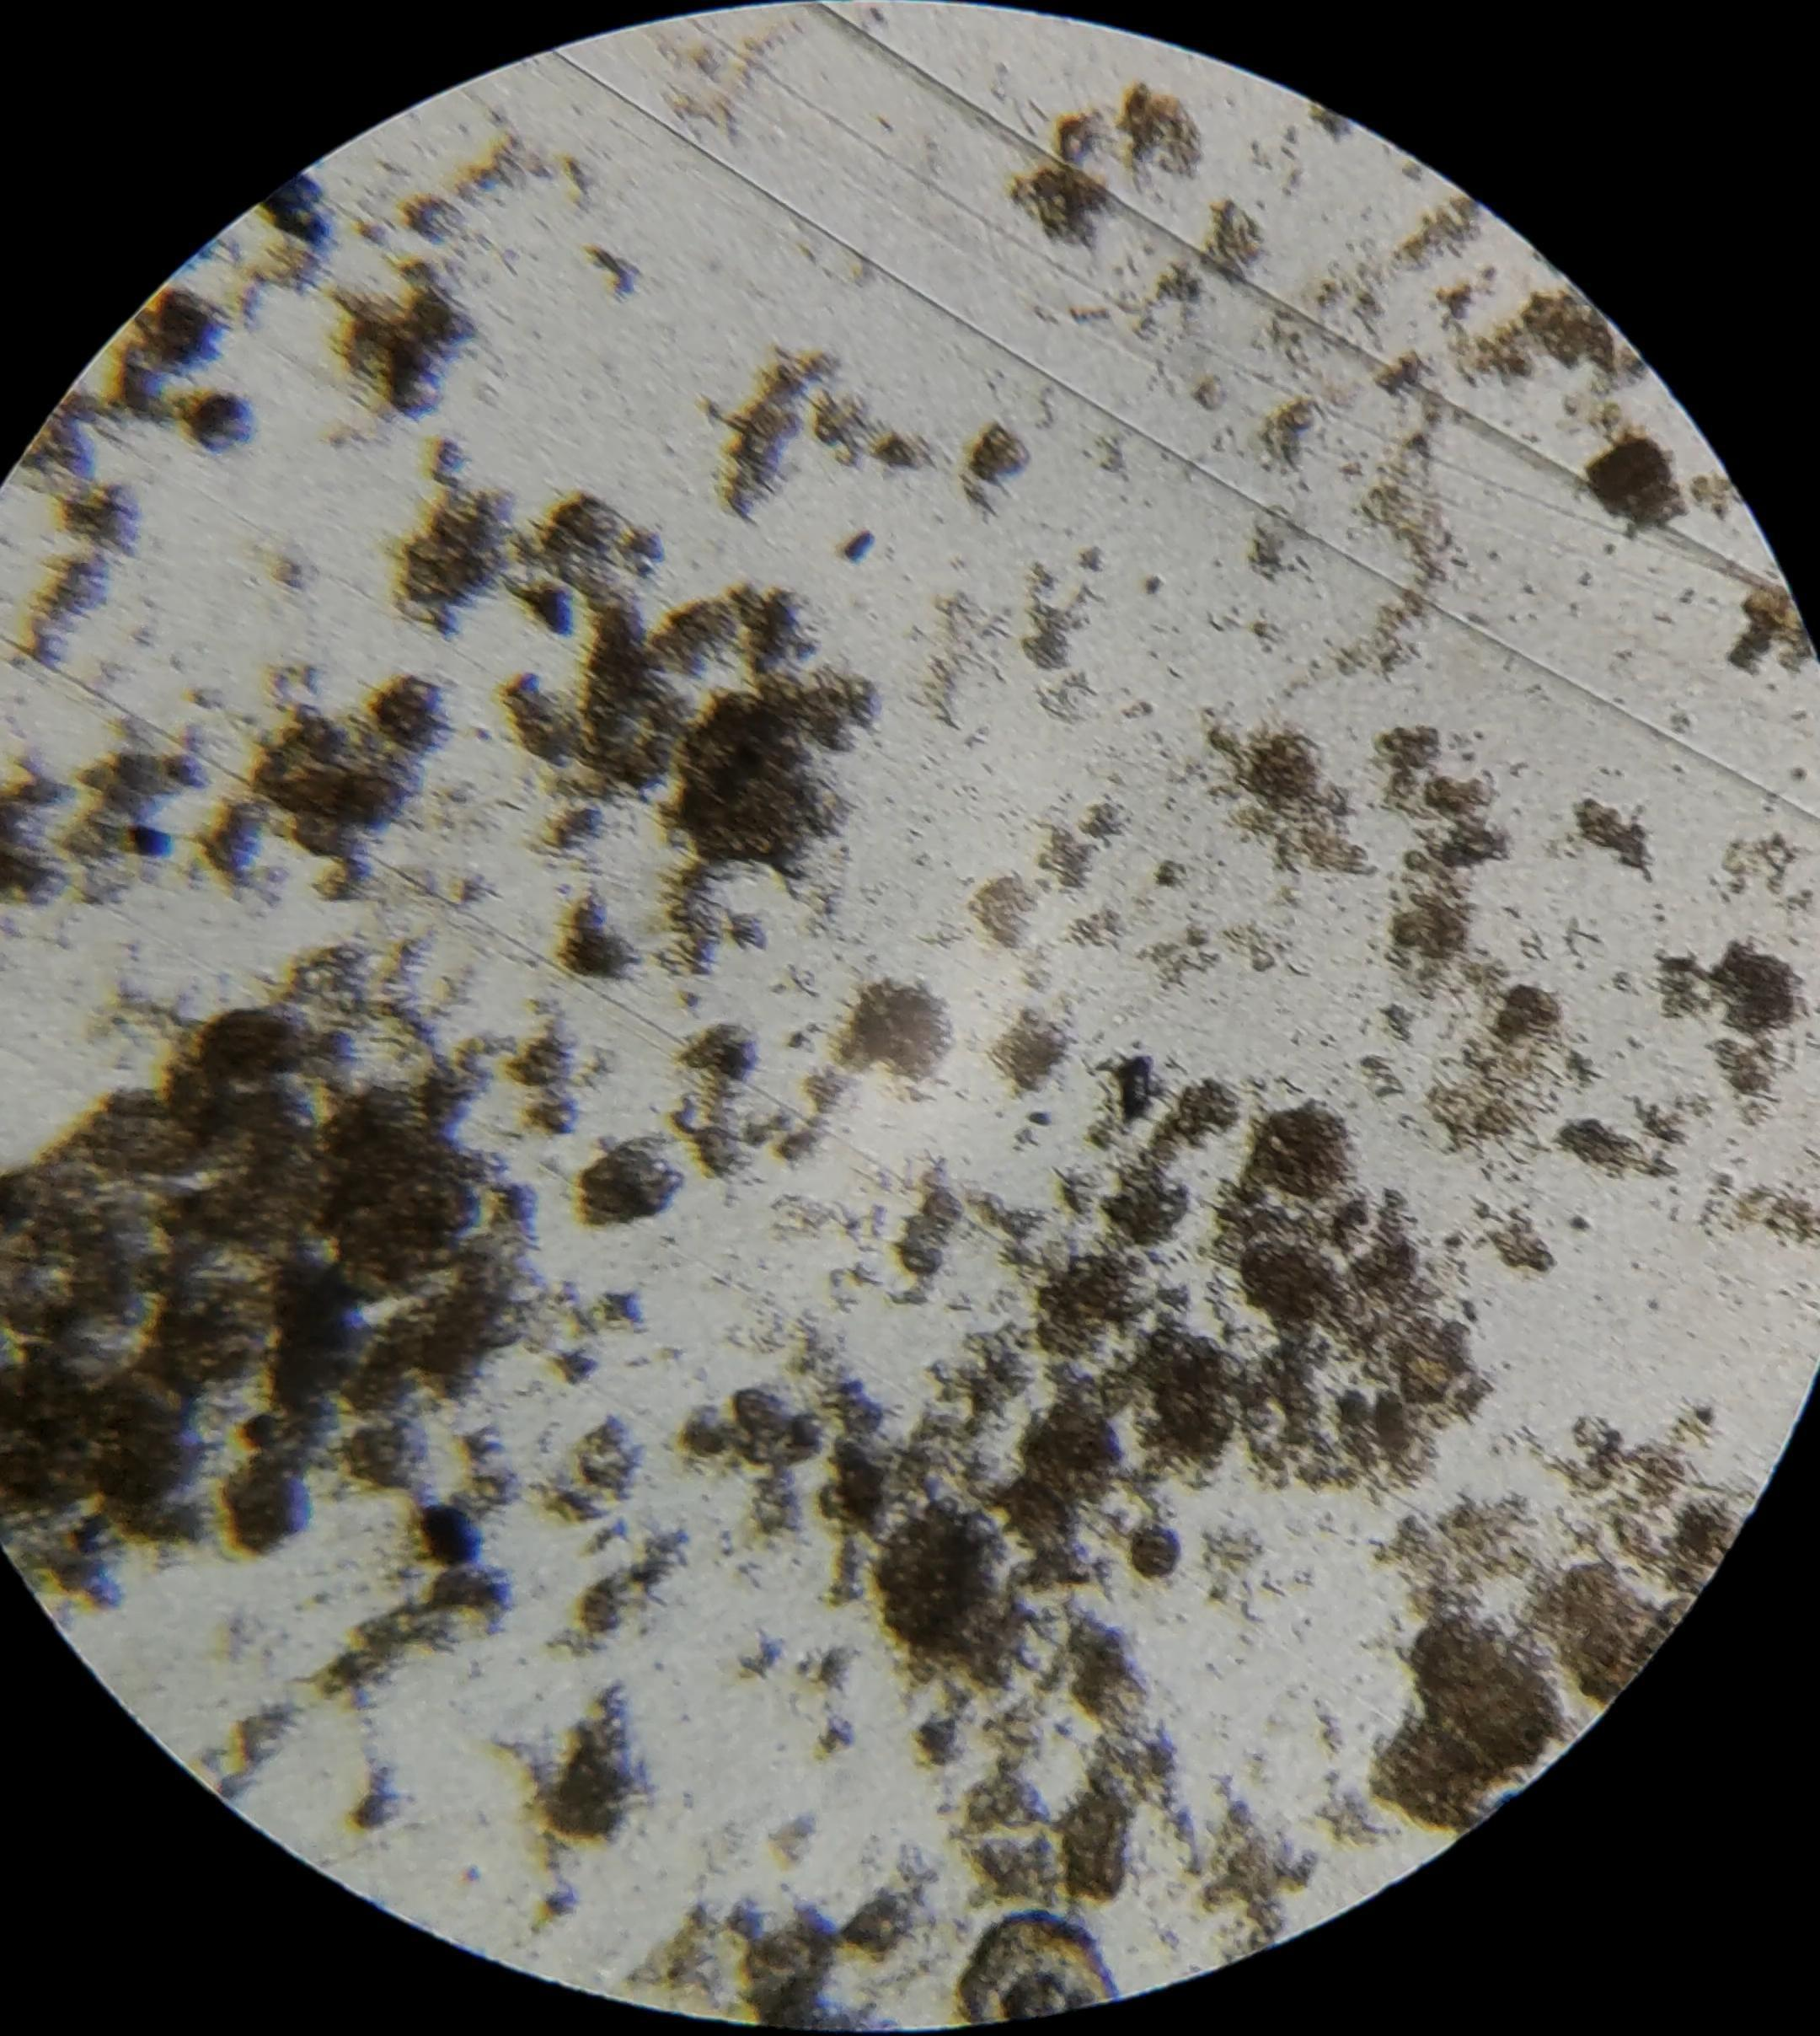Arcella: (971, 1917, 1119, 2027)
